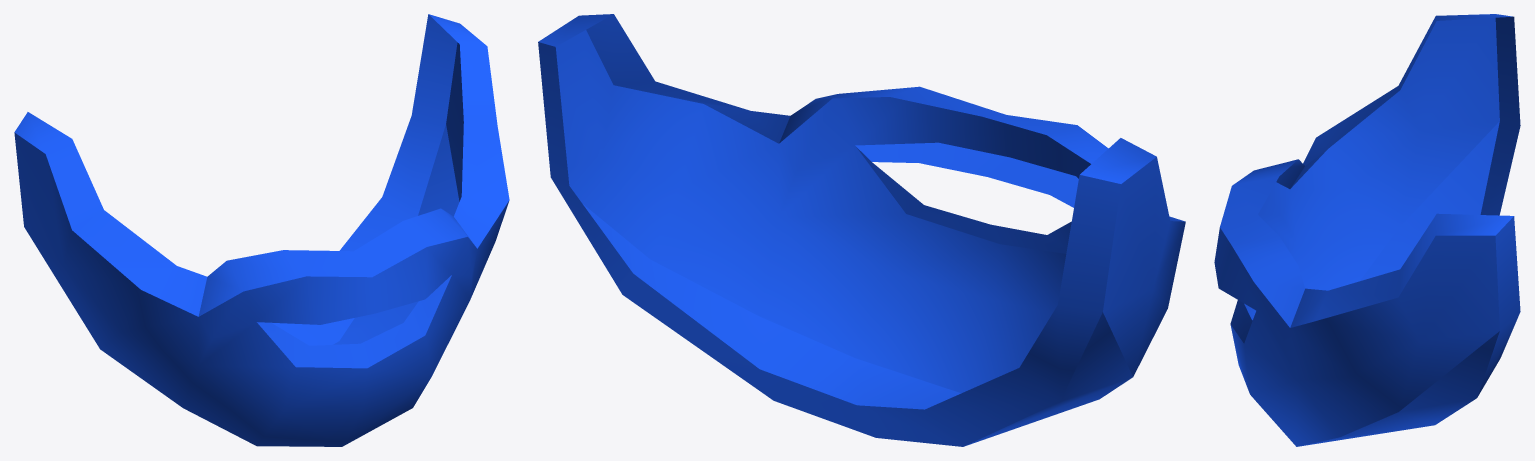
Rendered from Male_Beard_01.fbx.
3 views of the same model, side by side, from view 1: azimuth 30°, elevation 25°; view 2: azimuth 150°, elevation 25°; view 3: azimuth 270°, elevation 25° (orthographic). The views are drawn at different scales.
Visible parts, largest first — view 1: Male_Beard_01; view 2: Male_Beard_01; view 3: Male_Beard_01.
Boxes of the visible parts, x1=… form: Male_Beard_01: x1=14, y1=14, x2=509, y2=446; Male_Beard_01: x1=538, y1=14, x2=1185, y2=446; Male_Beard_01: x1=1214, y1=14, x2=1520, y2=446.
Size of the model in its own units: 49.08 by 31.64 by 28.62.
